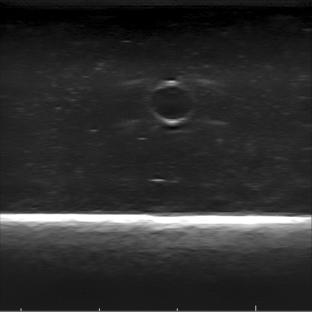vessel: (144, 79, 195, 125)
